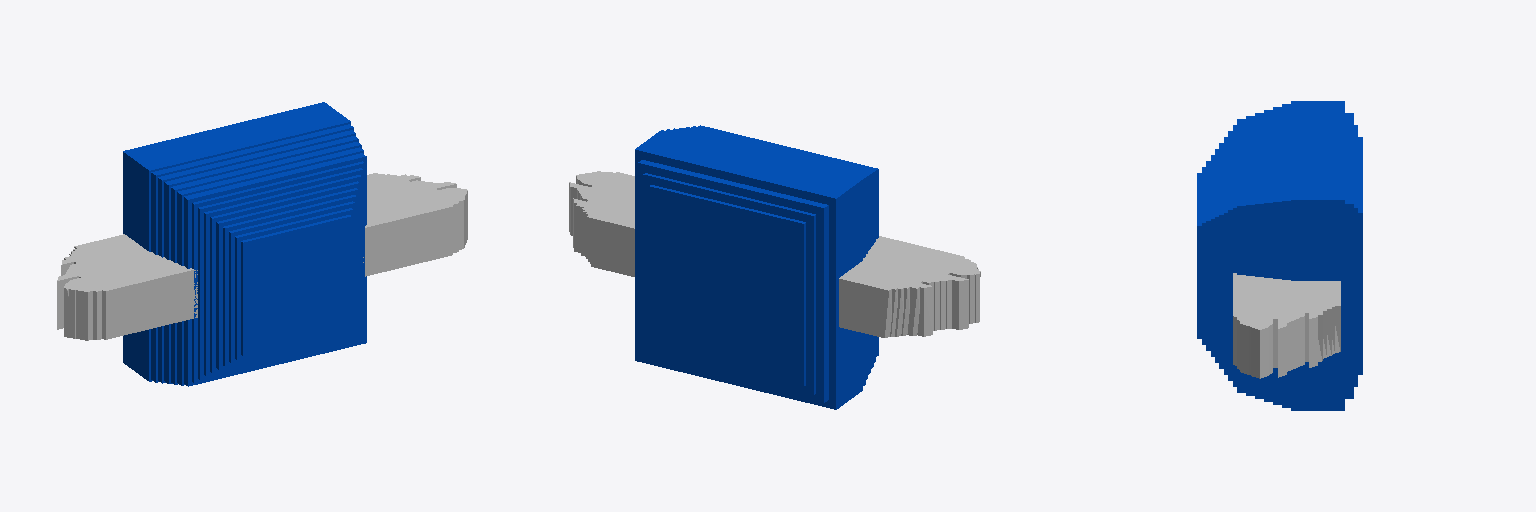
Rendered from enemy2_2.obj.
3 renders of one model, left to right at view 1: azimuth 30°, elevation 25°; view 2: azimuth 150°, elevation 25°; view 3: azimuth 270°, elevation 25°, orthographic.
Visible parts, largest first — view 1: obj1; view 2: obj1; view 3: obj1.
Boxes of the visible parts, x1,y1,x2,y2 form: obj1: [57, 102, 467, 386]; obj1: [569, 125, 980, 409]; obj1: [1197, 101, 1362, 410].
Bounding box in the file's own units: 26 × 13 × 9.25.